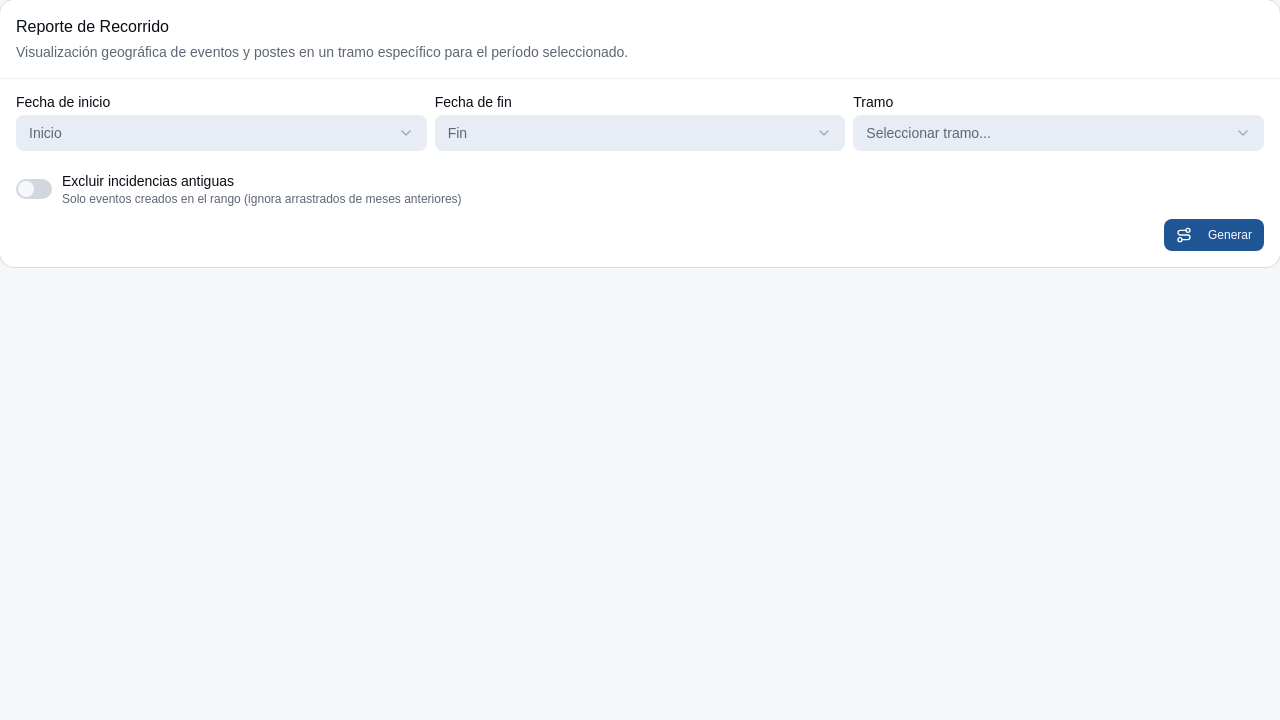
Test: where the tramos come from › offers the tramos the server sent, by name, and no 'all' entry: this report needs exactly one
The image size is (1280, 720).
What coordinates should you click on to do the following:
click the button "Seleccionar tramo..."
I would click on:
 (929, 133)
Its box is [853,115,1264,151].
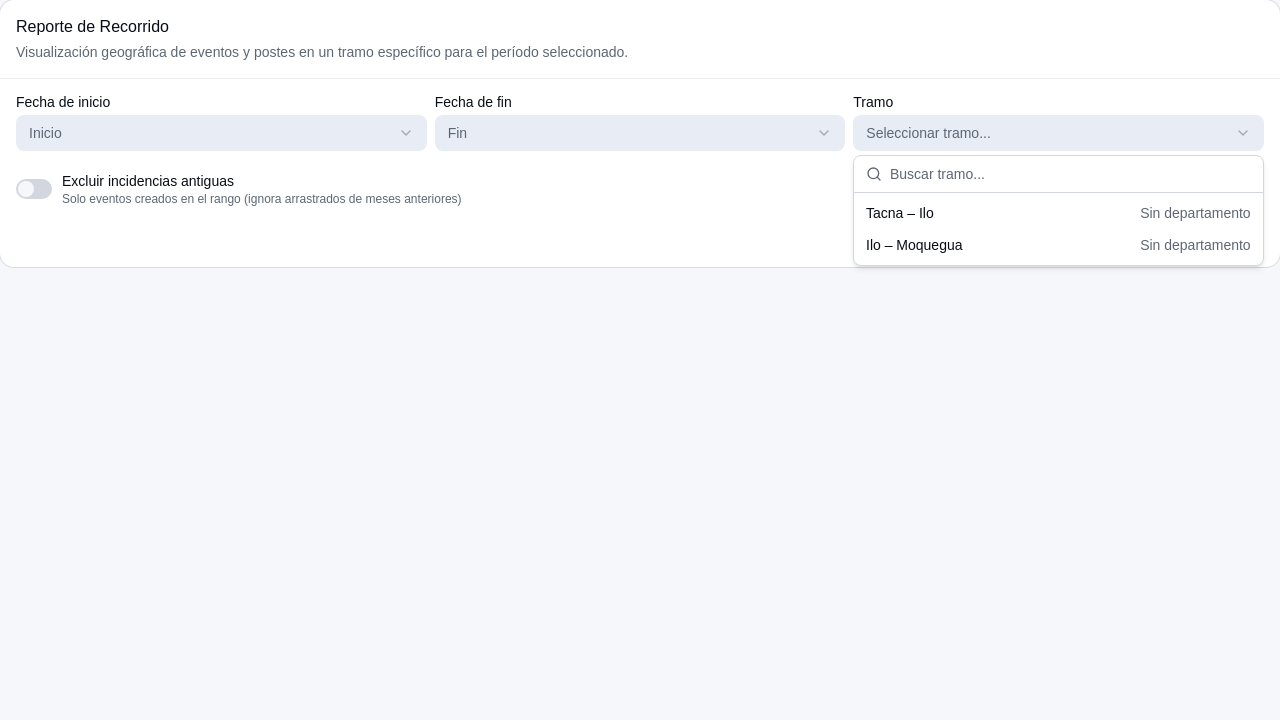
Result: the button "Tacna – Ilo Sin departamento" is shown at [858,197,1259,229]
Result: the button "Ilo – Moquegua Sin departamento" is shown at [858,229,1259,261]
